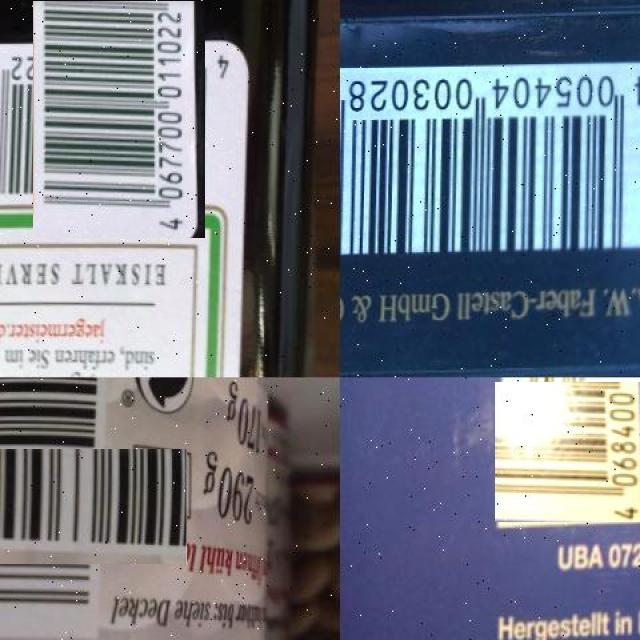Barcode: (340, 60, 640, 255), (17, 17, 222, 222), (0, 412, 152, 599), (498, 379, 640, 524)
